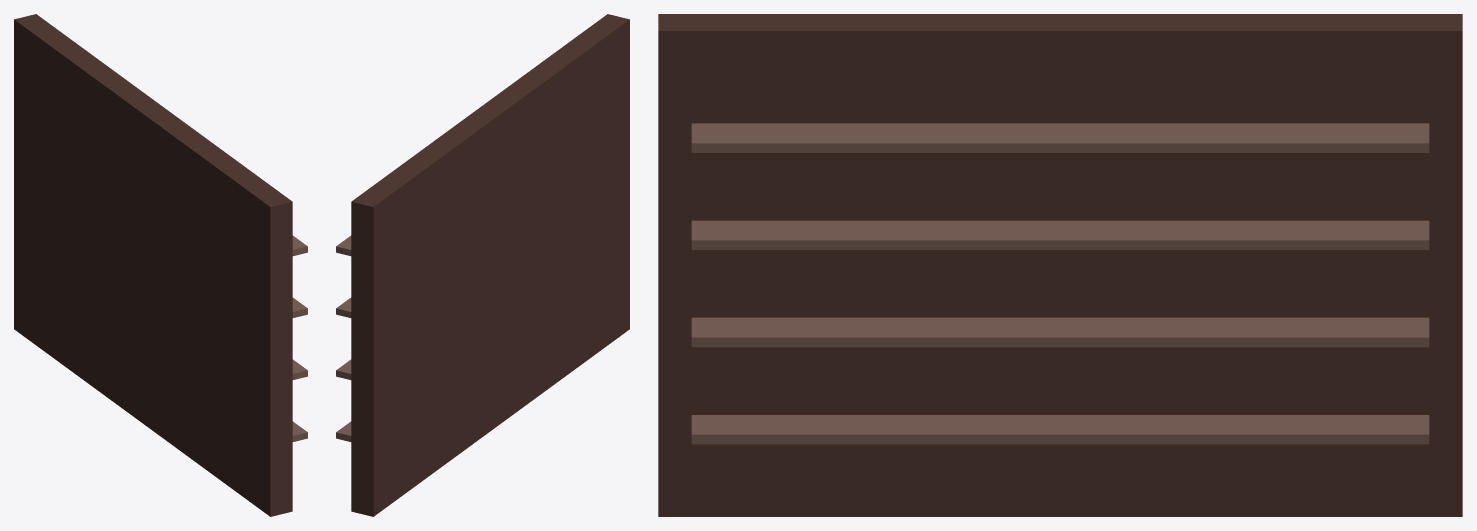
File: station-shelving-authored-vertex-colour-tripo-finish.glb
3 renders of one model, left to right at view 1: azimuth 30°, elevation 25°; view 2: azimuth 150°, elevation 25°; view 3: azimuth 270°, elevation 25°, orthographic. The views are drawn at different scales.
Parts seen in each view (by area): view 1: Authored_surface_029; view 2: Authored_surface_029; view 3: Authored_surface_029.
Part boxes in pixels (x1,y1,x2,y2): Authored_surface_029: [14, 14, 307, 516]; Authored_surface_029: [336, 14, 629, 516]; Authored_surface_029: [658, 14, 1462, 516].
Size of the model in its own units: 0.1083 by 0.6667 by 1.
